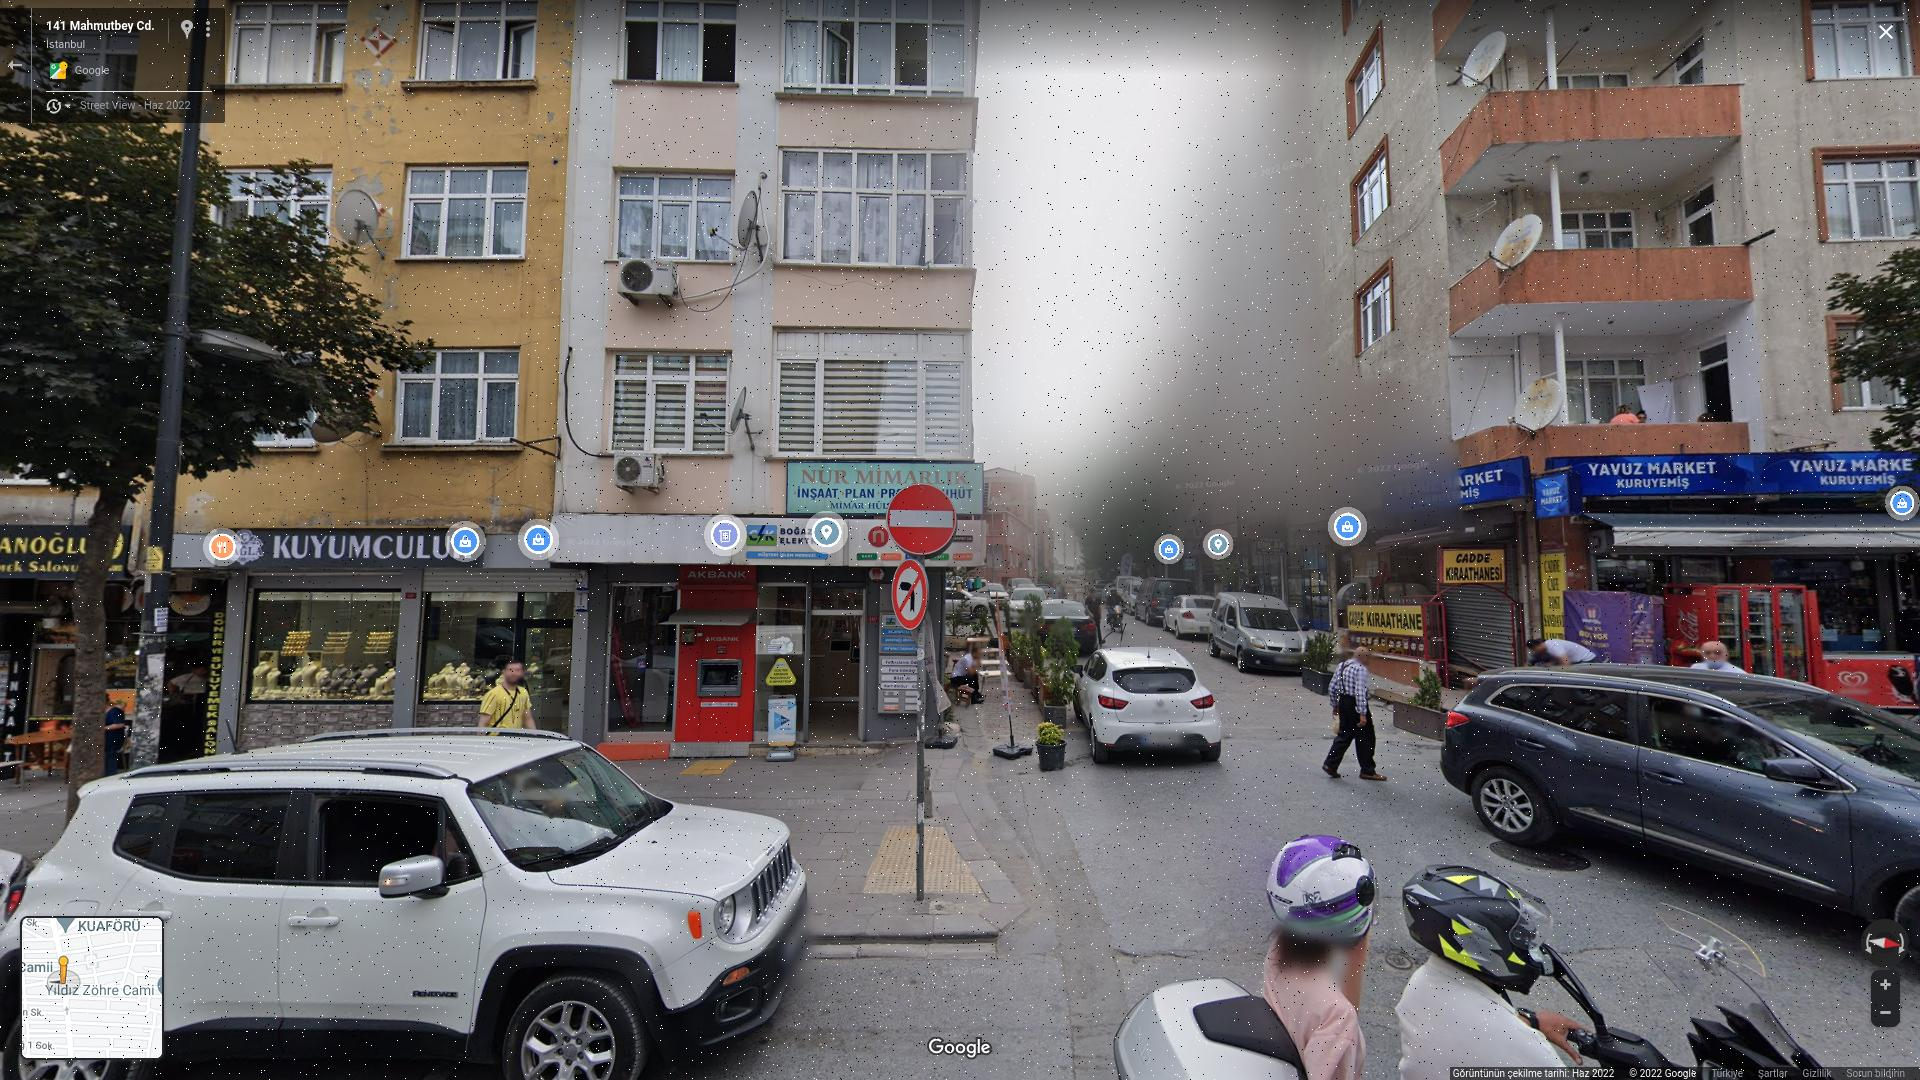leftturnsareforbidden: (889, 562, 931, 629)
